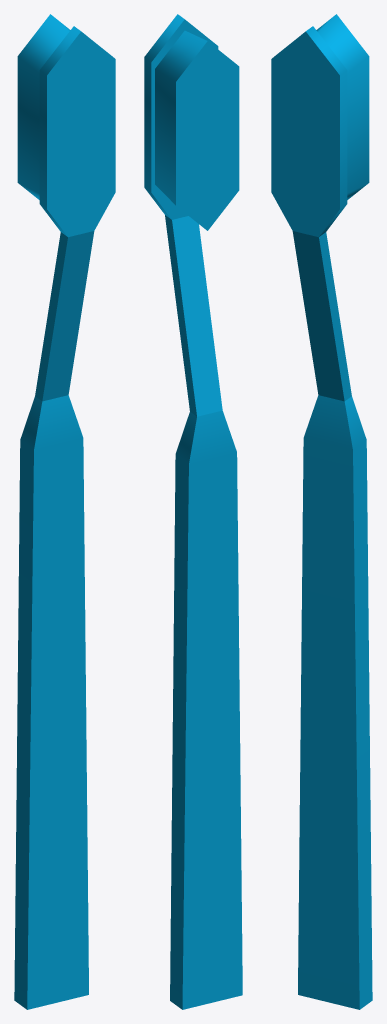
File: Teeth_Brush_01_Lod1.fbx
The picture shows the model from 3 angles, left to right: view 1: azimuth 30°, elevation 25°; view 2: azimuth 210°, elevation 25°; view 3: azimuth 330°, elevation 25°; orthographic projection. The views are drawn at different scales.
Parts seen in each view (by area): view 1: Teeth_Brush_01_Lod1; view 2: Teeth_Brush_01_Lod1; view 3: Teeth_Brush_01_Lod1.
Boxes of the visible parts, x1,y1,x2,y2 form: Teeth_Brush_01_Lod1: (14, 14, 115, 1009); Teeth_Brush_01_Lod1: (144, 14, 242, 1009); Teeth_Brush_01_Lod1: (271, 14, 372, 1009).
Size of the model in its own units: 2.22 by 30.49 by 2.03.
